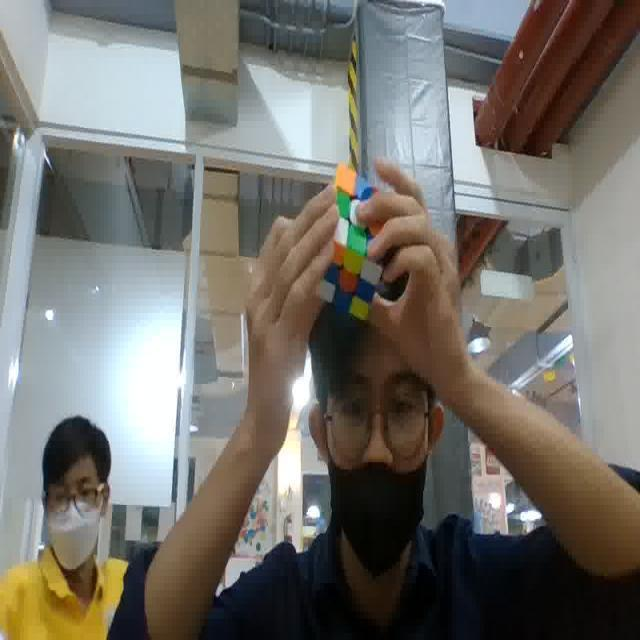Rub: (316, 162, 383, 318)
